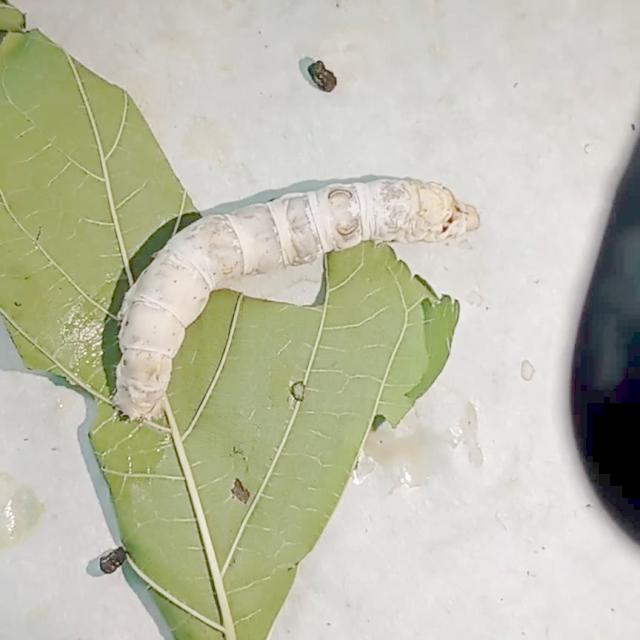Grasserie: (90, 159, 487, 444)
